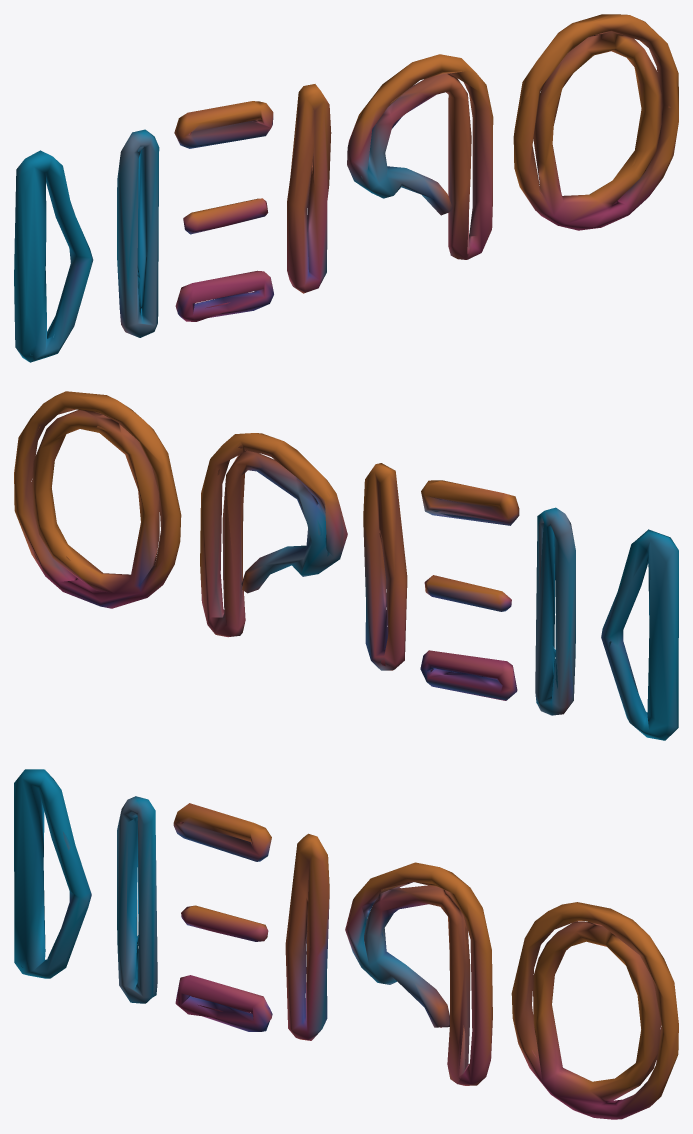
File: gen3d-neon-sign-lod1.glb
The picture shows the model from 3 angles, top to bottom: view 1: azimuth 30°, elevation 25°; view 2: azimuth 150°, elevation 25°; view 3: azimuth 330°, elevation 25°; orthographic projection.
Visible parts, largest first — view 1: part_0; view 2: part_0; view 3: part_0.
Boxes of the visible parts, box(x1,y1,x2,y2) form: part_0: box(14, 14, 678, 362); part_0: box(14, 391, 678, 740); part_0: box(14, 769, 678, 1119).
Size of the model in its own units: 3.25 by 0.9992 by 0.0943.
